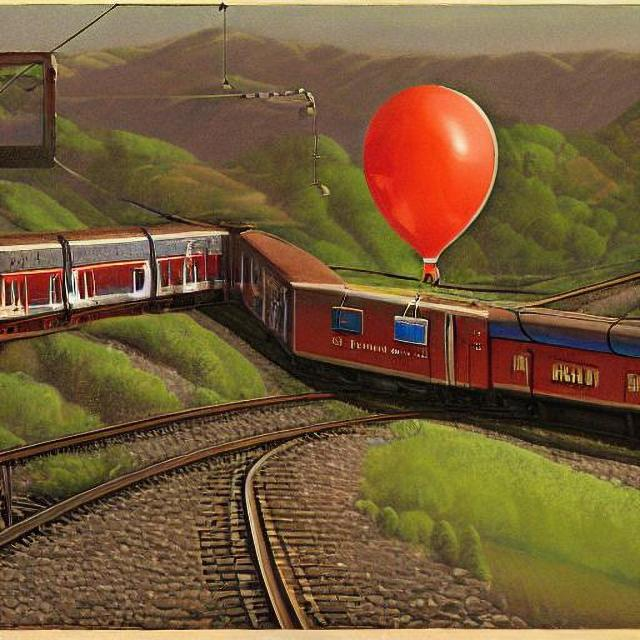balloon: (356, 76, 496, 286)
